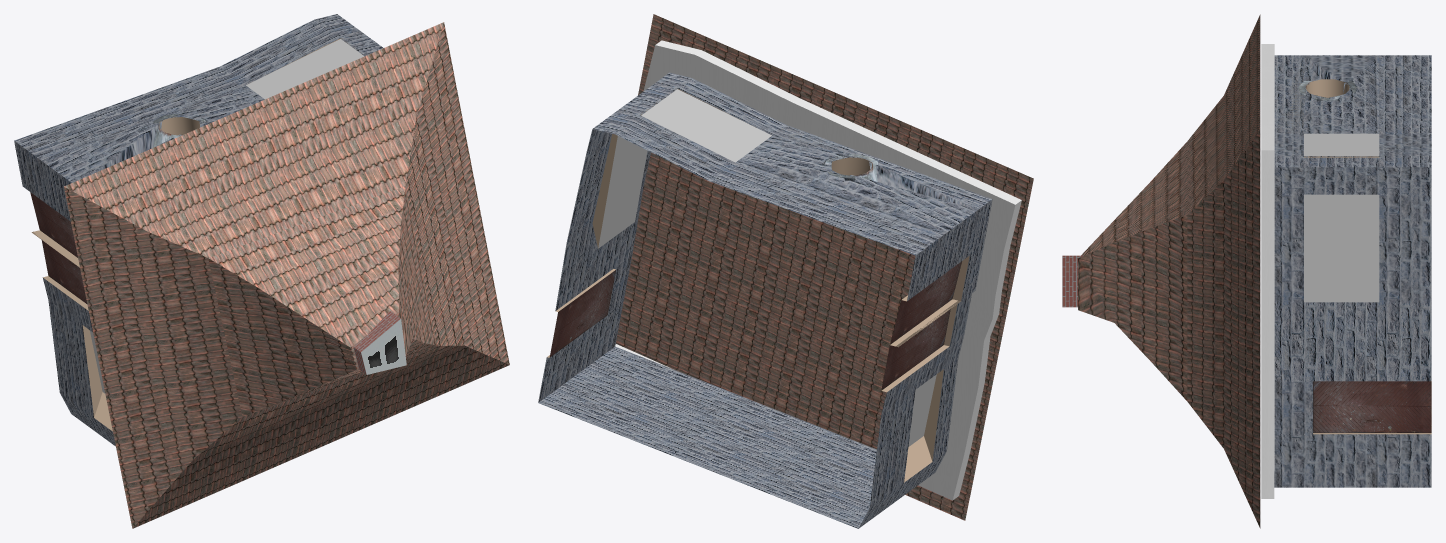
The model's file is Tp8-origo.obj.
3 renders of one model, left to right at view 1: azimuth 30°, elevation 25°; view 2: azimuth 150°, elevation 25°; view 3: azimuth 270°, elevation 25°, orthographic.
Visible parts, largest first — view 1: polySurface7; view 2: polySurface7; view 3: polySurface7.
Part boxes in pixels (x1,y1,x2,y2): polySurface7: [14, 14, 509, 528]; polySurface7: [538, 14, 1033, 528]; polySurface7: [1062, 14, 1431, 528].
Size of the model in its own units: 9.75 by 9 by 6.86.
